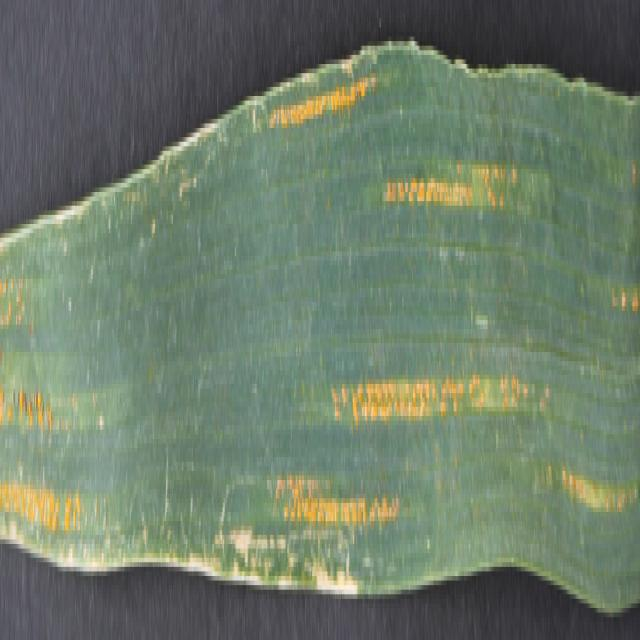leaf rust: (268, 311, 524, 567), (0, 256, 101, 558), (539, 247, 640, 544), (377, 142, 521, 238), (269, 73, 387, 169)
